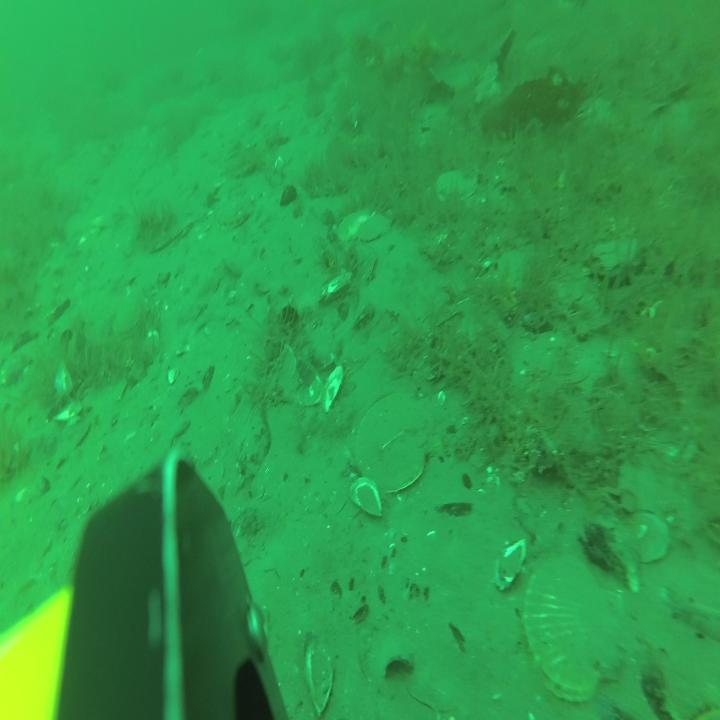scallop: (523, 554, 626, 700), (356, 393, 446, 495), (437, 167, 476, 201), (218, 196, 252, 230), (342, 205, 371, 237), (361, 213, 391, 240)
